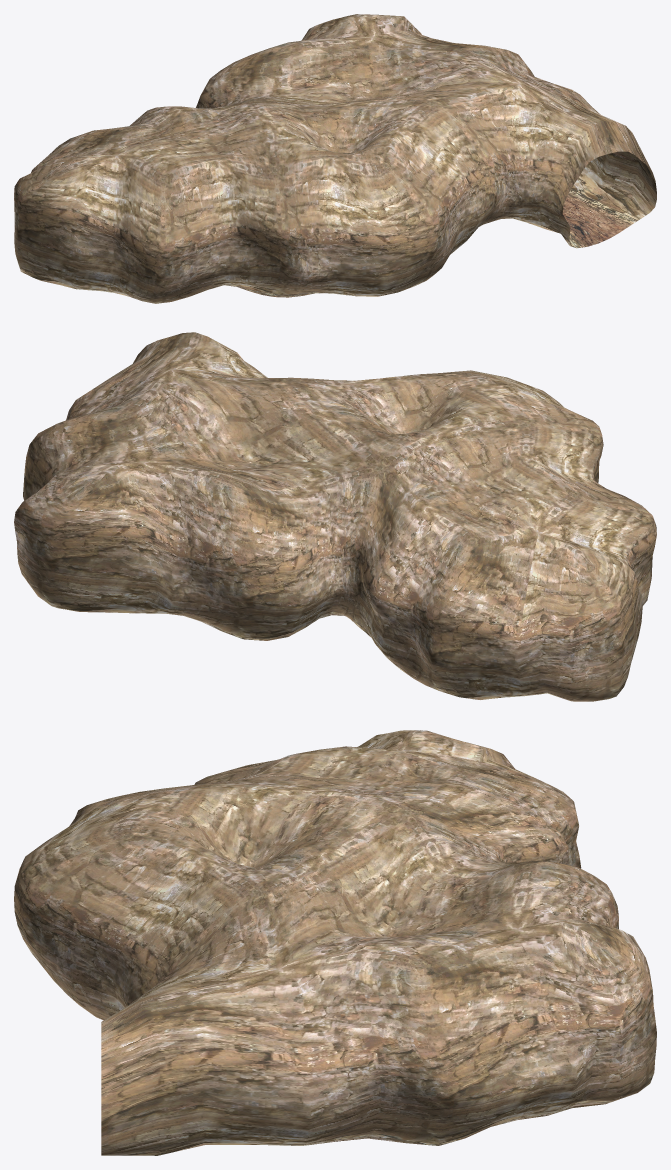
File: thm_tato_cave_s01_r17_roomac_mesh_r17.fbx
3 renders of one model, top to bottom at view 1: azimuth 30°, elevation 25°; view 2: azimuth 150°, elevation 25°; view 3: azimuth 270°, elevation 25°, orthographic. The views are drawn at different scales.
Visible parts, largest first — view 1: mesh_node; view 2: mesh_node; view 3: mesh_node.
Part boxes in pixels (x1,y1,x2,y2): mesh_node: [14, 14, 656, 303]; mesh_node: [14, 332, 656, 701]; mesh_node: [14, 730, 656, 1155].
Size of the model in its own units: 57.3 by 17.06 by 43.63.
